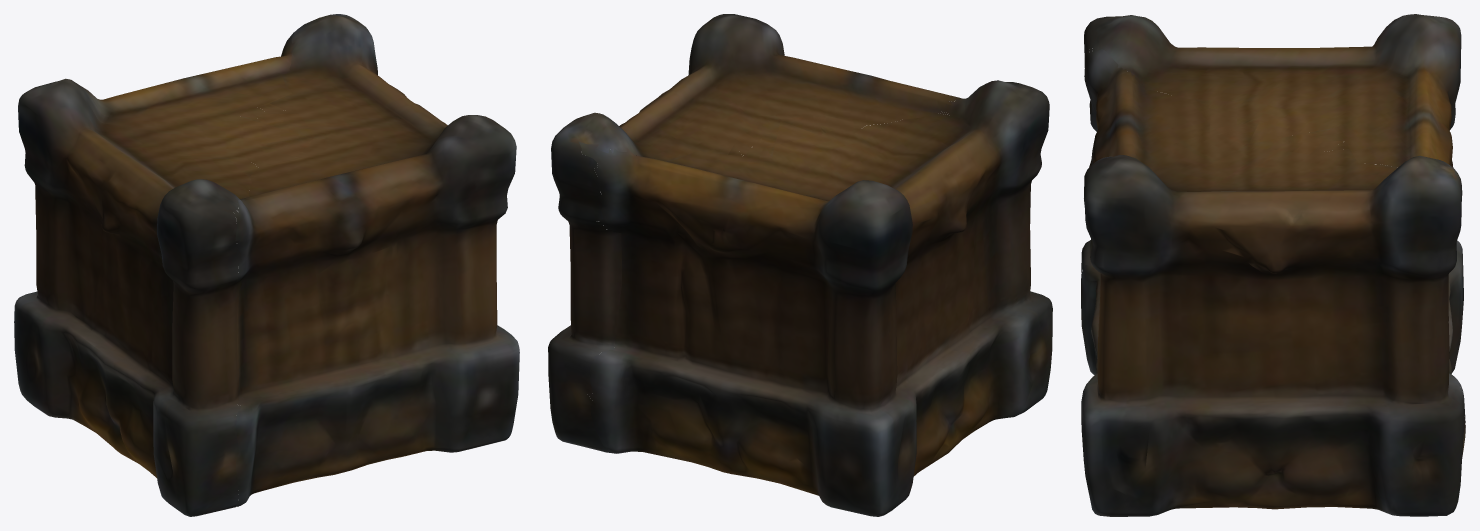
Rendered from arena-crate-square.glb.
3 views of the same model, side by side, from view 1: azimuth 30°, elevation 25°; view 2: azimuth 150°, elevation 25°; view 3: azimuth 270°, elevation 25° (orthographic). The views are drawn at different scales.
Parts seen in each view (by area): view 1: GF_Crate_Square; view 2: GF_Crate_Square; view 3: GF_Crate_Square.
Part boxes in pixels (left/top/right/bottom): GF_Crate_Square: left=14, top=14, right=519, bottom=516; GF_Crate_Square: left=548, top=14, right=1052, bottom=516; GF_Crate_Square: left=1081, top=14, right=1465, bottom=516.
Size of the model in its own units: 0.0648 by 0.0584 by 0.0588.
Materials: 1 (1 with a texture image).
